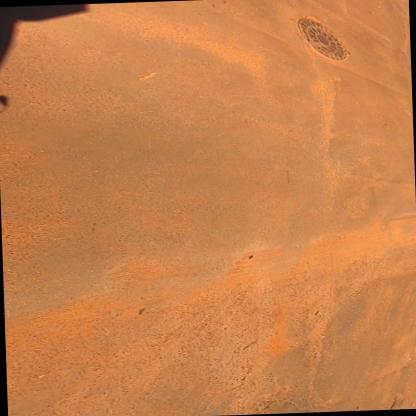manholes: (288, 14, 358, 64)
